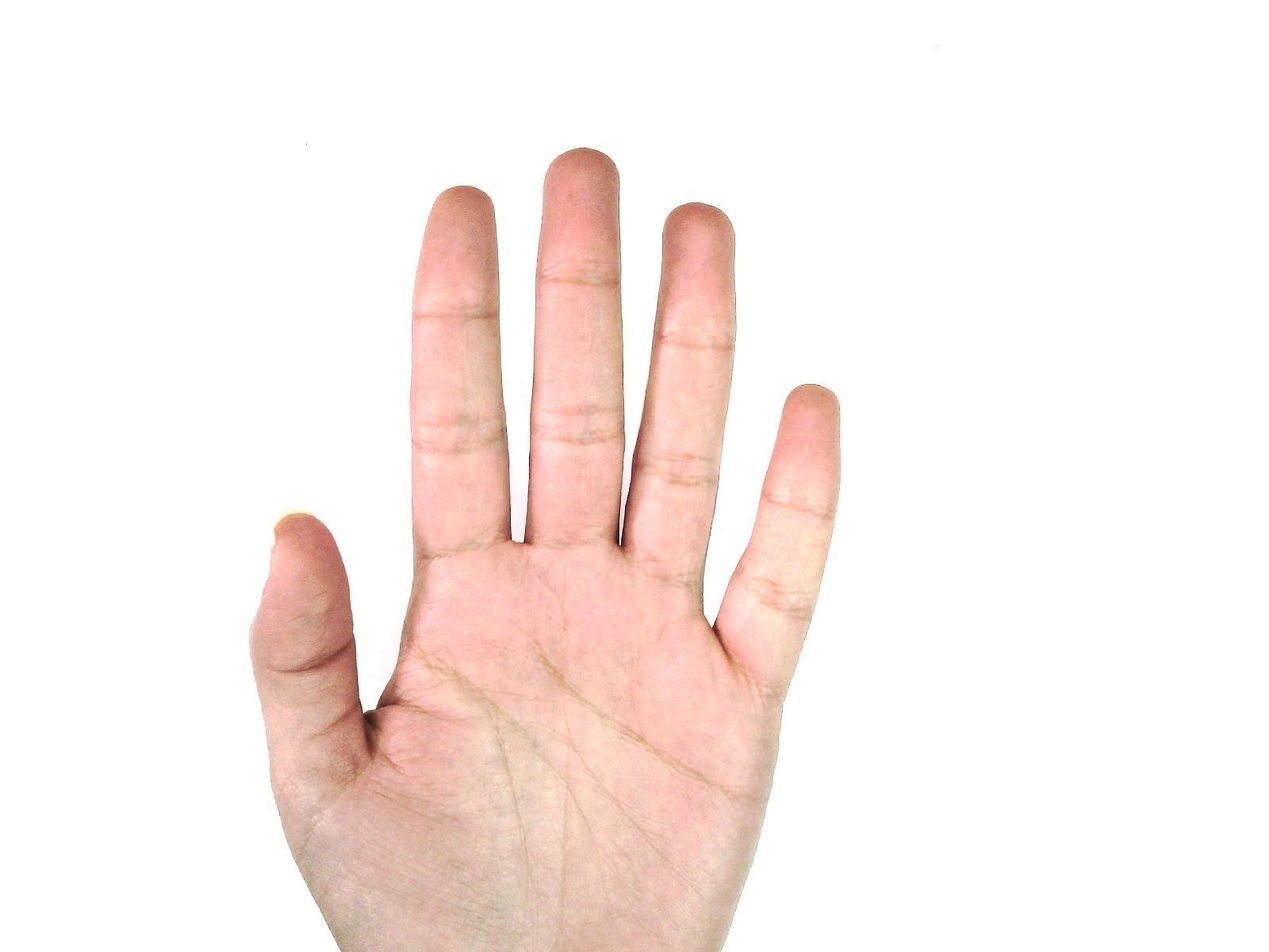open_palm: (247, 147, 845, 951)
